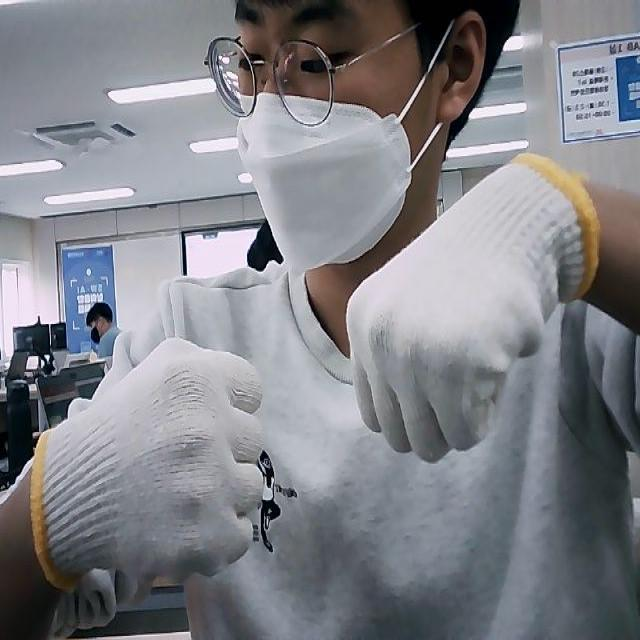gloves: (346, 151, 598, 463), (29, 336, 262, 591)
